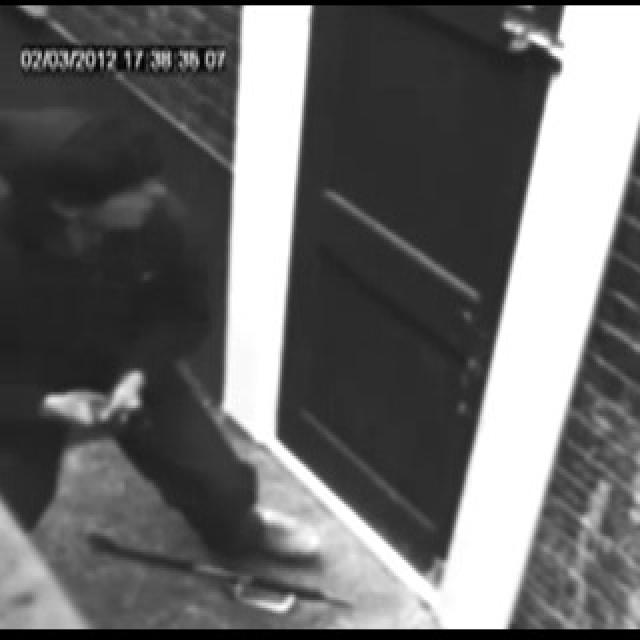thief: (0, 75, 192, 277)
